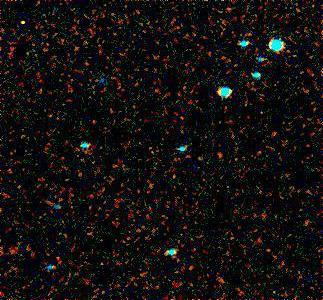star: (8, 7, 38, 37)
